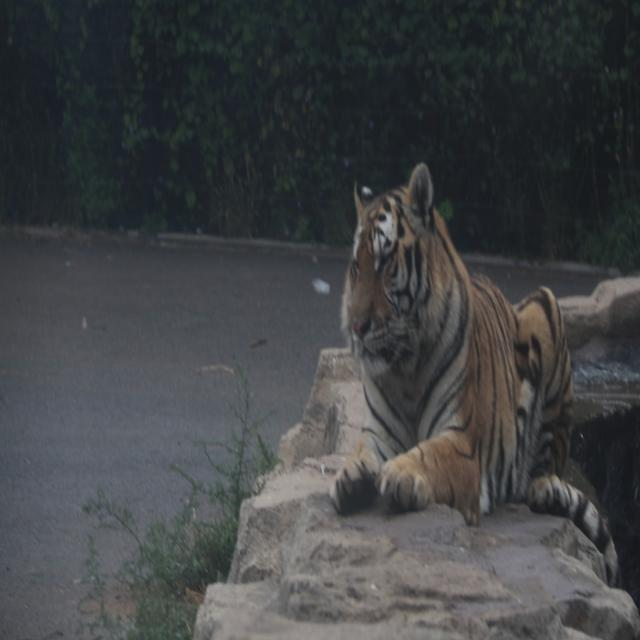Tiger: (298, 142, 632, 588)
